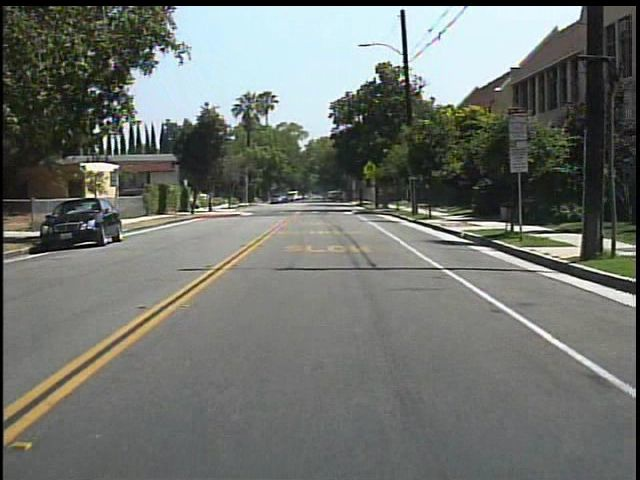person: (317, 188, 332, 206)
